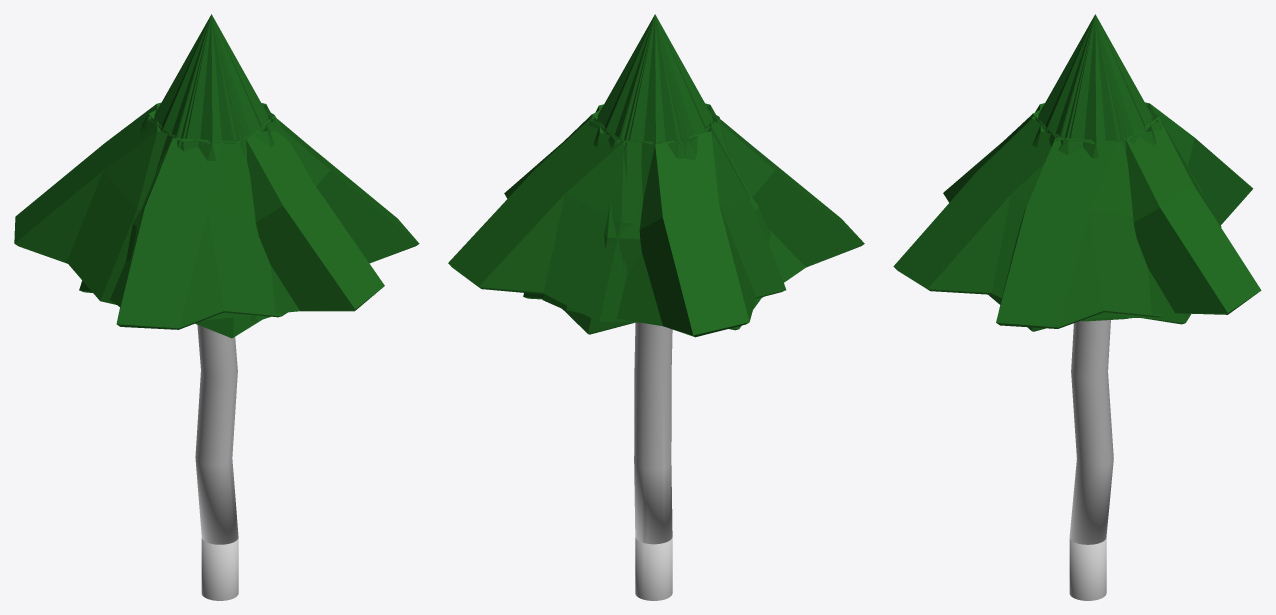
The model's file is Tree_Straight_Down.fbx.
3 views of the same model, side by side, from view 1: azimuth 30°, elevation 25°; view 2: azimuth 150°, elevation 25°; view 3: azimuth 270°, elevation 25° (orthographic).
Visible parts, largest first — view 1: Cylinder.001, Cylinder.004; view 2: Cylinder.001, Cylinder.004; view 3: Cylinder.001, Cylinder.004.
Boxes of the visible parts, box(x1,y1,x2,y2) form: Cylinder.001: box(14, 14, 419, 544); Cylinder.004: box(201, 538, 238, 600); Cylinder.001: box(448, 14, 864, 544); Cylinder.004: box(635, 537, 672, 600); Cylinder.001: box(893, 14, 1261, 544); Cylinder.004: box(1069, 537, 1106, 600).
Bounding box in the file's own units: 281 × 485 × 281.
